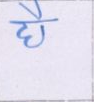ai_matra: (18, 0, 46, 19)
